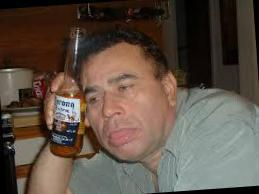Drunk: (82, 46, 163, 157)
